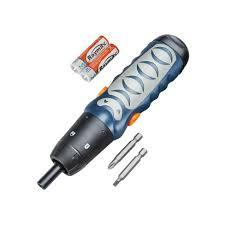screwdriver: (107, 130, 145, 169), (111, 147, 148, 186)
